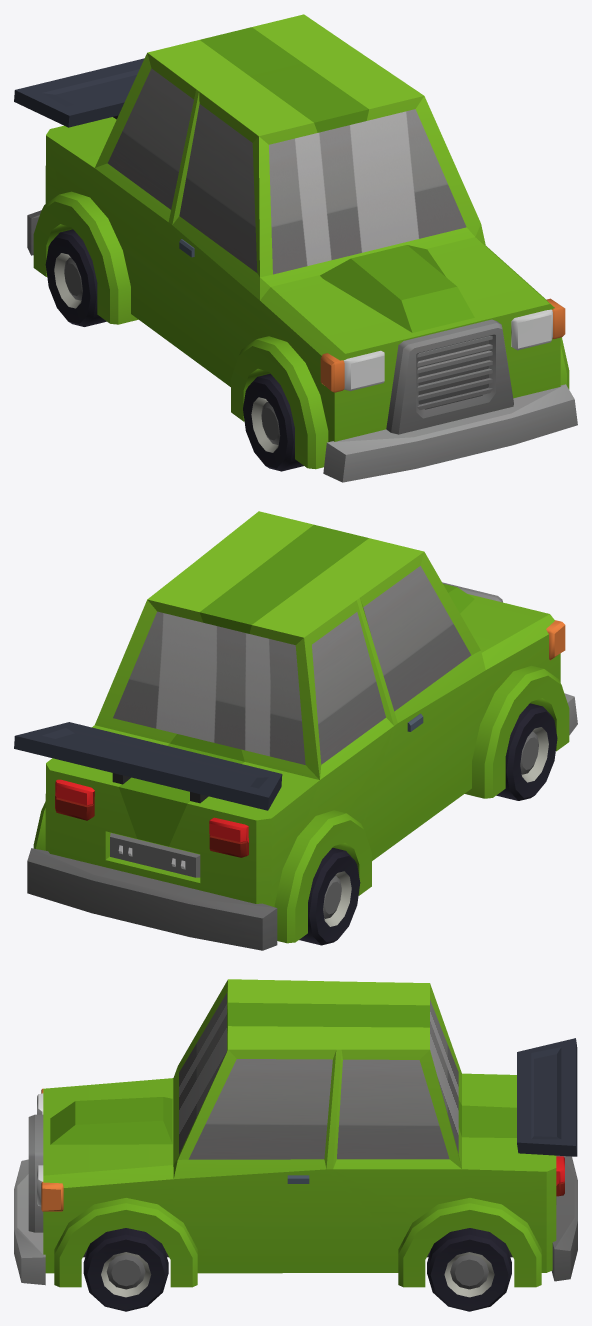
Rendered from SportCar_21.glb.
The picture shows the model from 3 angles, top to bottom: view 1: azimuth 30°, elevation 25°; view 2: azimuth 150°, elevation 25°; view 3: azimuth 270°, elevation 25°; orthographic projection. The views are drawn at different scales.
Parts seen in each view (by area): view 1: SportCar_21, Wheel_fr, Wheel_br; view 2: SportCar_21, Wheel_br, Wheel_fr; view 3: SportCar_21, Wheel_fl, Wheel_bl.
Boxes of the visible parts, x1,y1,x2,y2 form: SportCar_21: (14, 14, 577, 482); Wheel_fr: (243, 373, 303, 471); Wheel_br: (45, 229, 106, 326); SportCar_21: (14, 511, 577, 950); Wheel_br: (299, 847, 360, 945); Wheel_fr: (496, 703, 557, 800); SportCar_21: (14, 979, 577, 1287); Wheel_fl: (83, 1228, 168, 1311); Wheel_bl: (427, 1228, 511, 1311).
Bounding box in the file's own units: 1.12 × 1.1 × 2.33.
7 materials, 7 textured.
